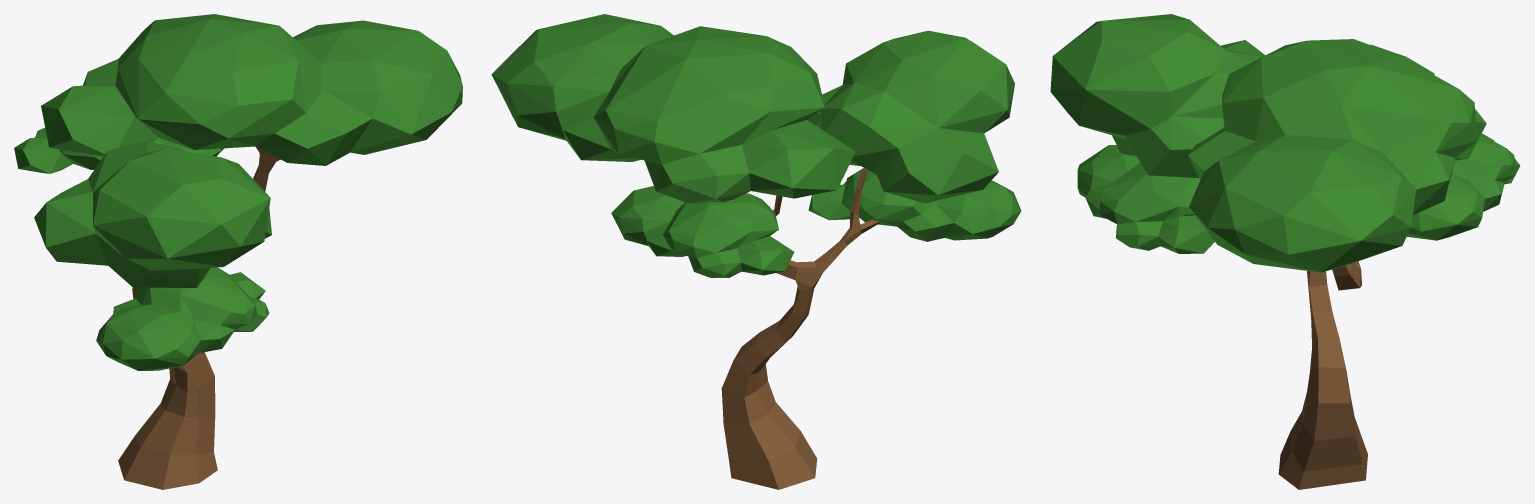
Rendered from SM_RF_AshTree_008.fbx.
3 views of the same model, side by side, from view 1: azimuth 30°, elevation 25°; view 2: azimuth 150°, elevation 25°; view 3: azimuth 270°, elevation 25° (orthographic). The views are drawn at different scales.
Visible parts, largest first — view 1: SM_RF_AshTree_008; view 2: SM_RF_AshTree_008; view 3: SM_RF_AshTree_008.
Part boxes in pixels (x1,y1,x2,y2): SM_RF_AshTree_008: (14,14,462,489); SM_RF_AshTree_008: (491,14,1021,489); SM_RF_AshTree_008: (1050,14,1520,489).
Size of the model in its own units: 1274 by 1129 by 1097.
